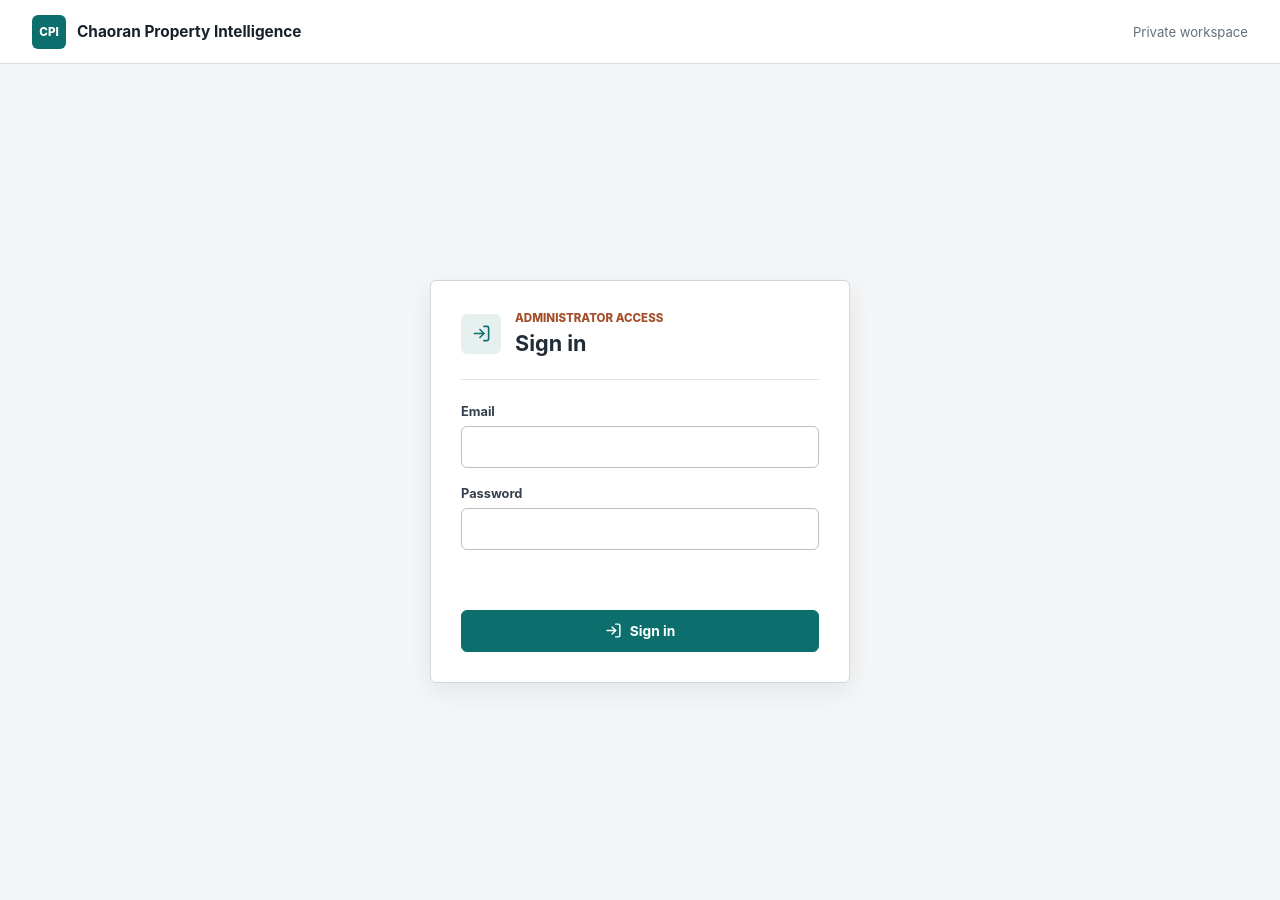
Test: App authentication boundary › submits login and shows a generic credential failure
The width and height of the screenshot is (1280, 900).
Expected: the heading "Sign in" is shown, [515, 330, 586, 356]
Type "admin@example.com" into the field labelled "Email".
click(640, 447); type("admin@example.com")  # box [461, 426, 819, 468]
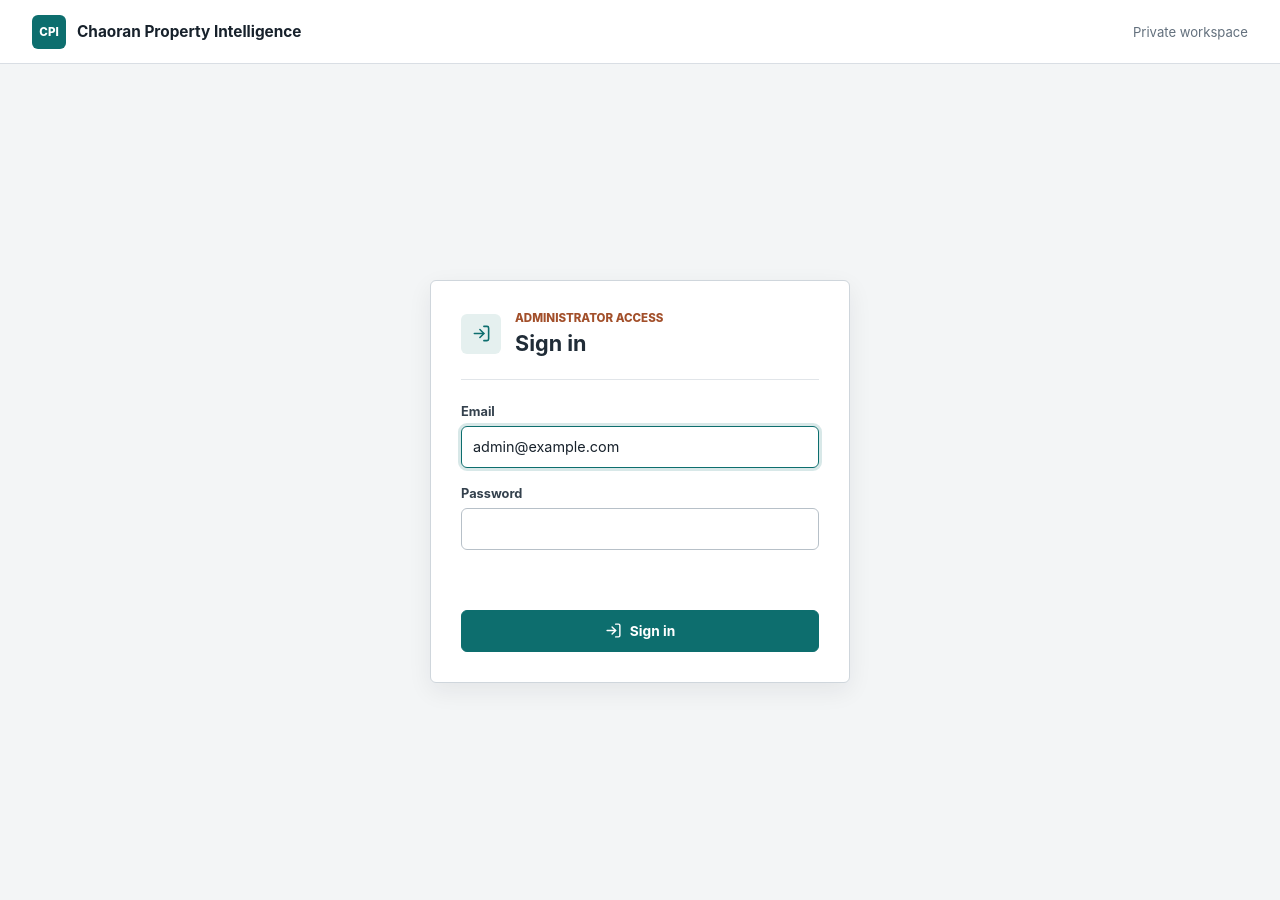
Type "not-the-password" into the password field labelled "Password".
click(640, 529); type("not-the-password")  # box [461, 508, 819, 550]
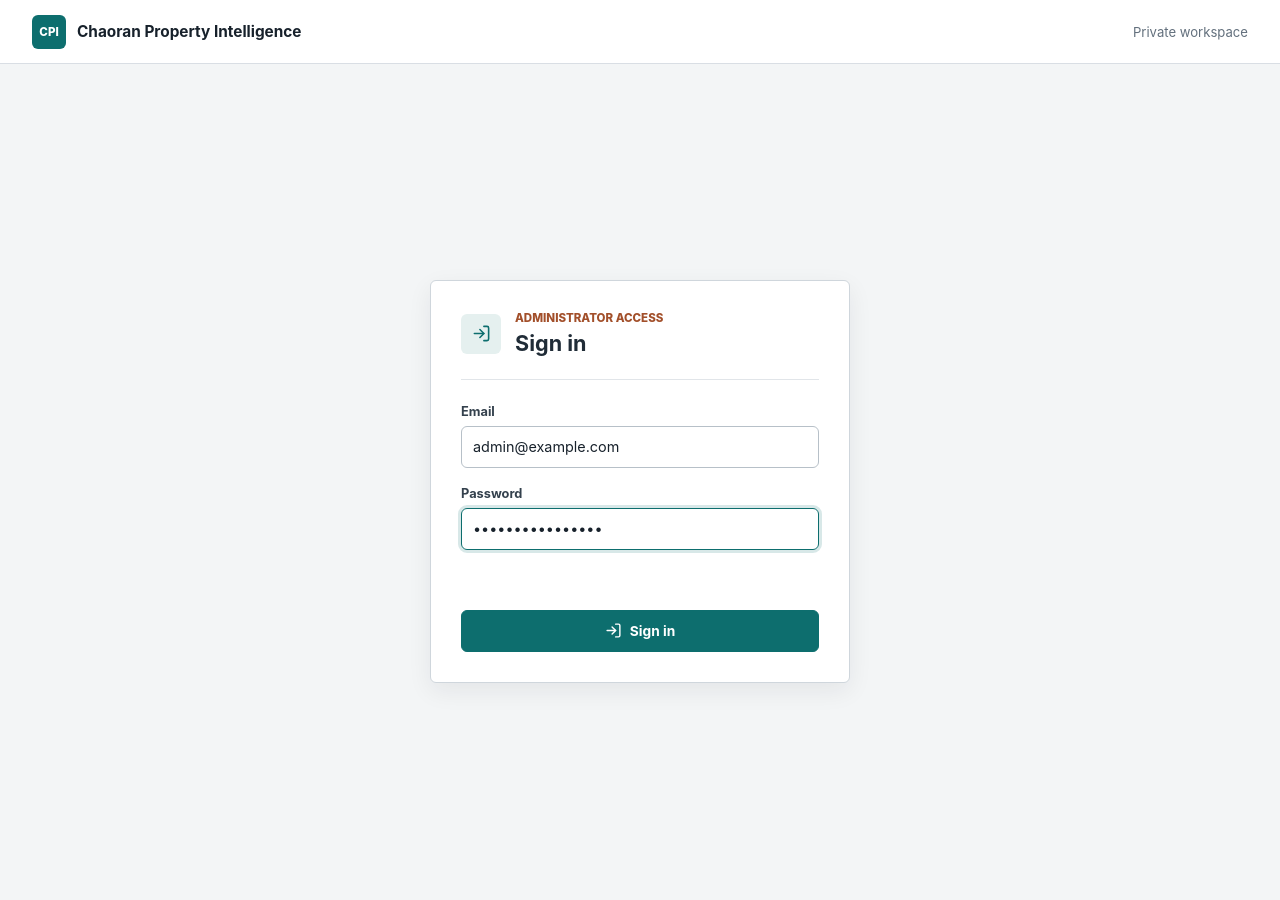
Click the button "Sign in".
click(640, 631)  # box [461, 610, 819, 652]
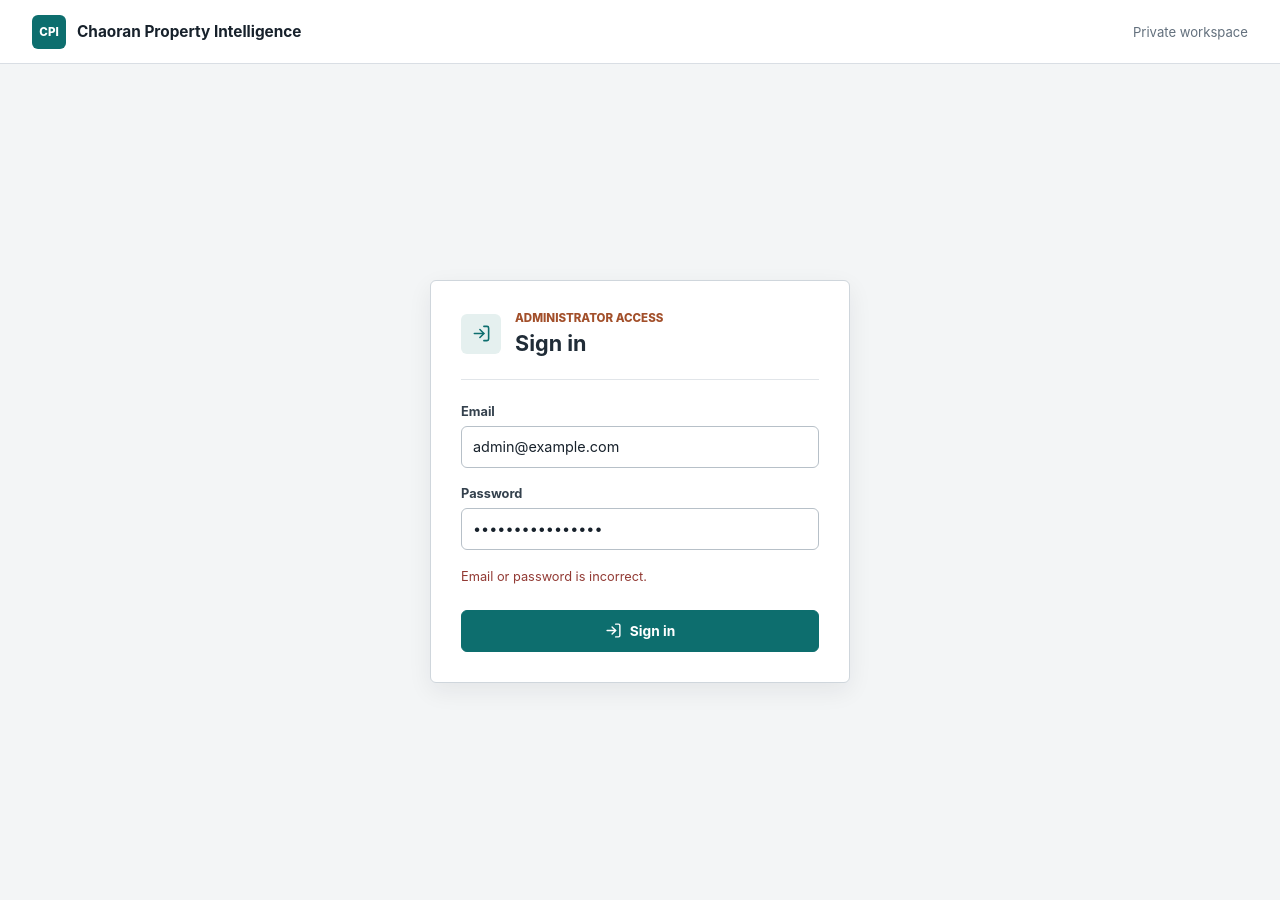
Expected: the text "Email or password is incorrect." is shown, [461, 569, 647, 584]
